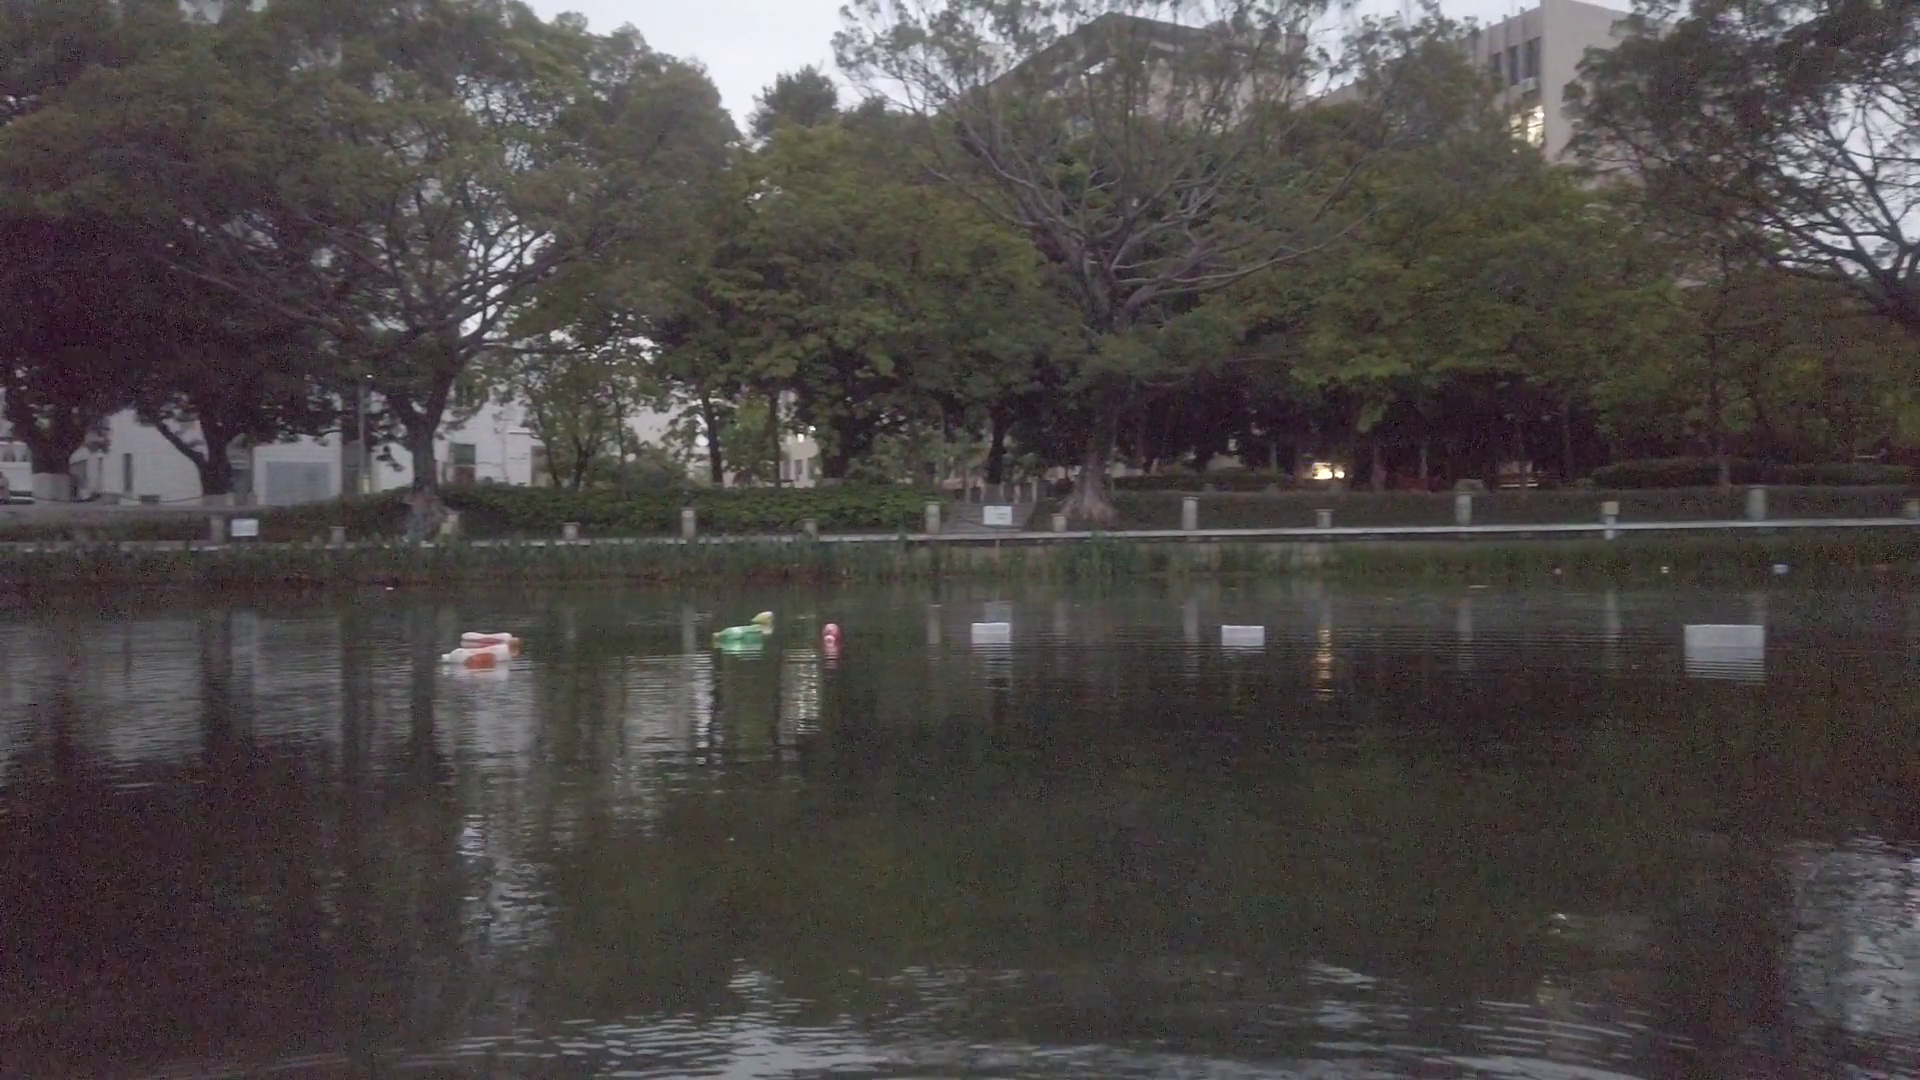bottle: (440, 644, 513, 669), (462, 626, 521, 651), (711, 624, 765, 645), (819, 622, 843, 647), (750, 608, 773, 626)
carton: (1684, 622, 1766, 651), (1221, 626, 1266, 644), (971, 622, 1011, 640)
